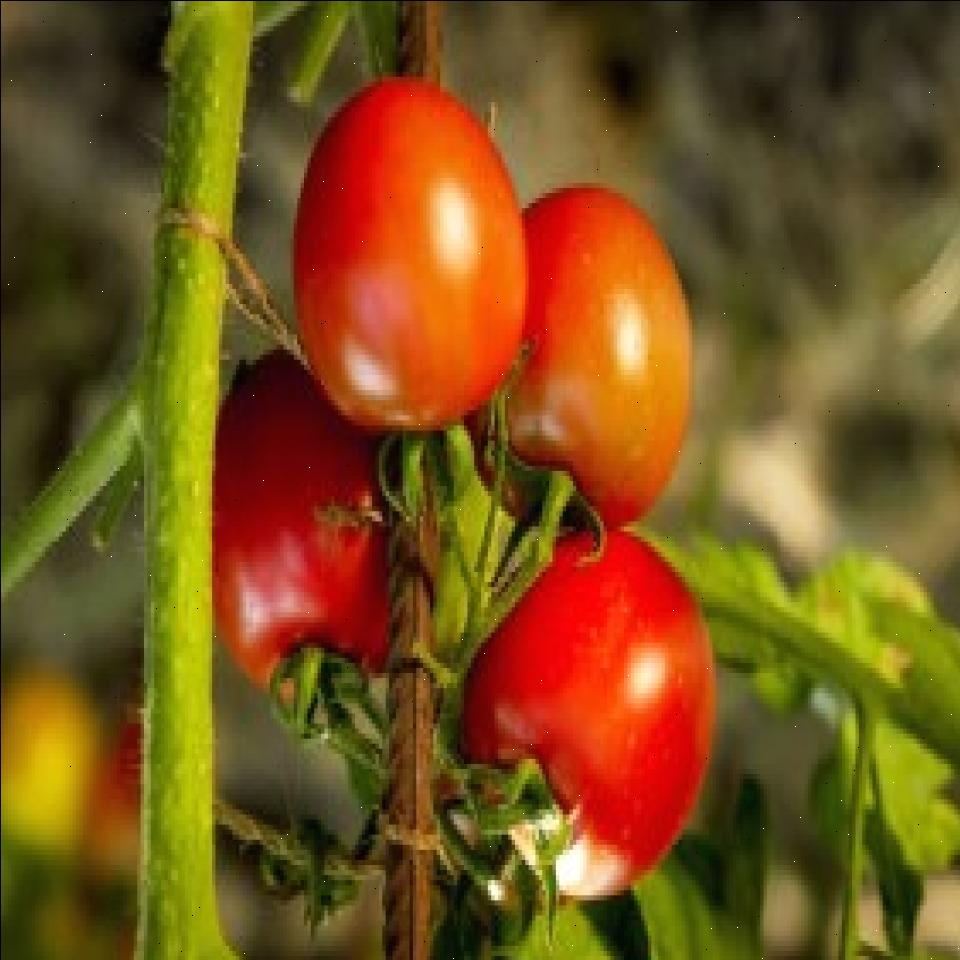Healthy: (452, 526, 774, 908), (288, 85, 521, 466), (209, 379, 422, 718), (494, 192, 694, 502)
